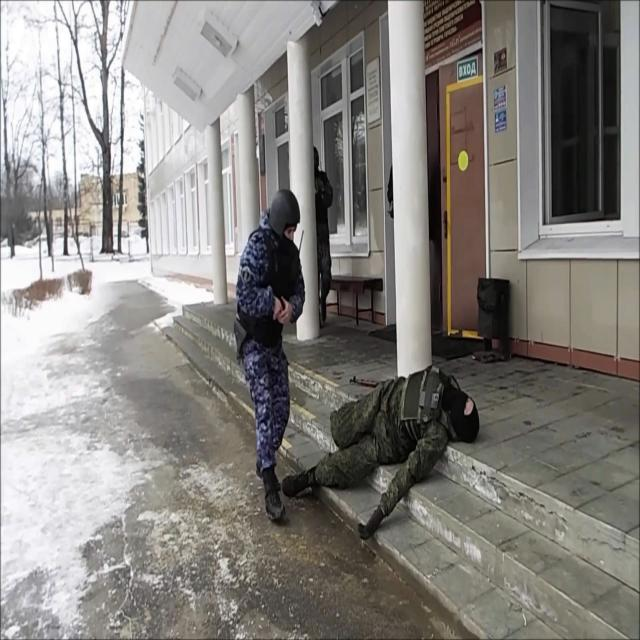gun: (283, 362, 481, 540), (232, 184, 306, 526), (312, 144, 335, 332), (231, 314, 249, 360), (348, 369, 381, 389)
